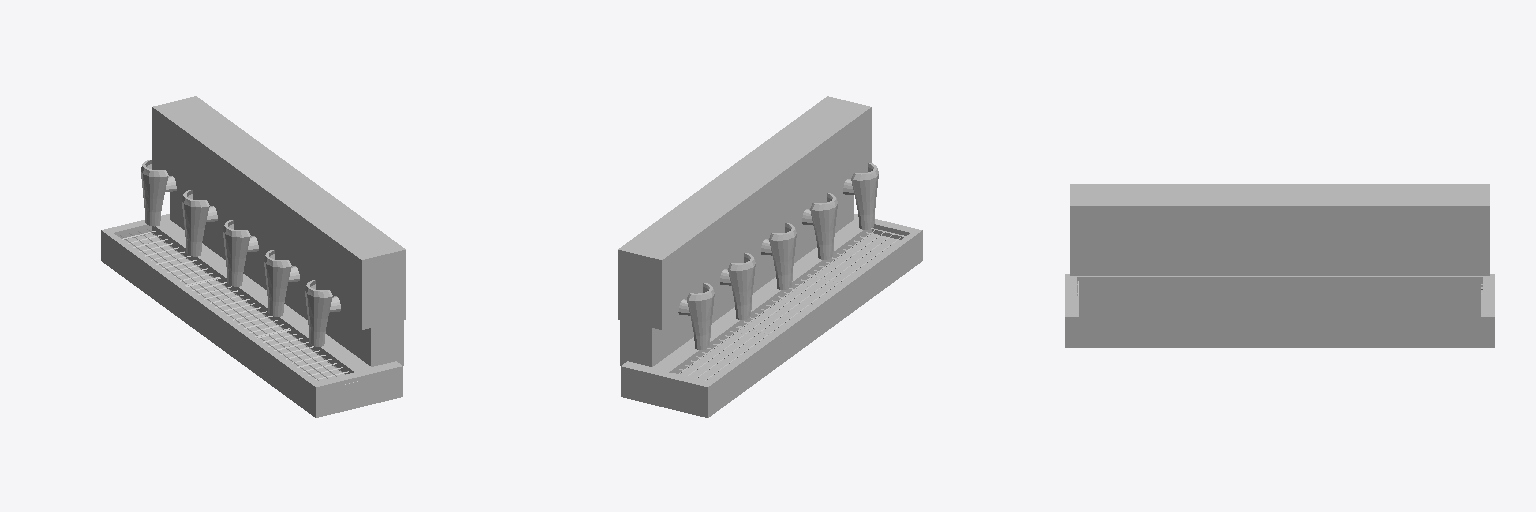
The model's file is CoffeeMaker.obj.
3 renders of one model, left to right at view 1: azimuth 30°, elevation 25°; view 2: azimuth 150°, elevation 25°; view 3: azimuth 270°, elevation 25°, orthographic.
Parts seen in each view (by area): view 1: Cube.064; view 2: Cube.064; view 3: Cube.064.
Part boxes in pixels (left/top/right/bottom): Cube.064: left=101, top=96, right=405, bottom=417; Cube.064: left=618, top=96, right=922, bottom=417; Cube.064: left=1065, top=184, right=1494, bottom=347.
Size of the model in its own units: 1.44 by 2.1 by 5.66.